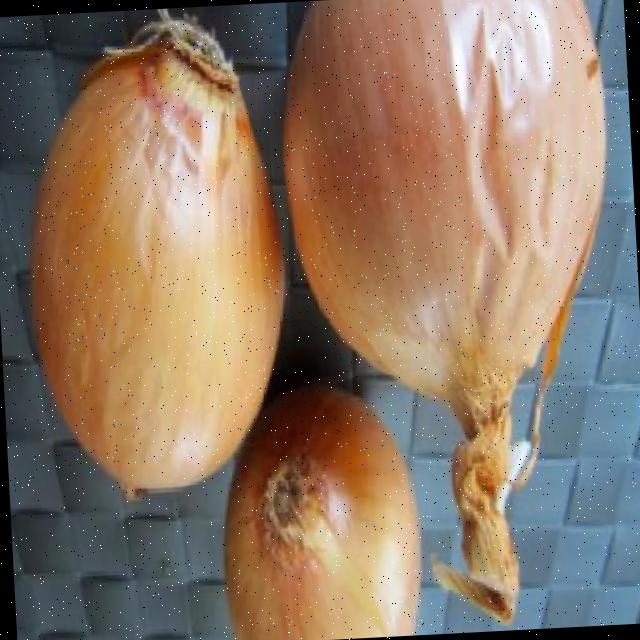Onion: (283, 0, 605, 623), (29, 8, 282, 493), (223, 385, 419, 640)
